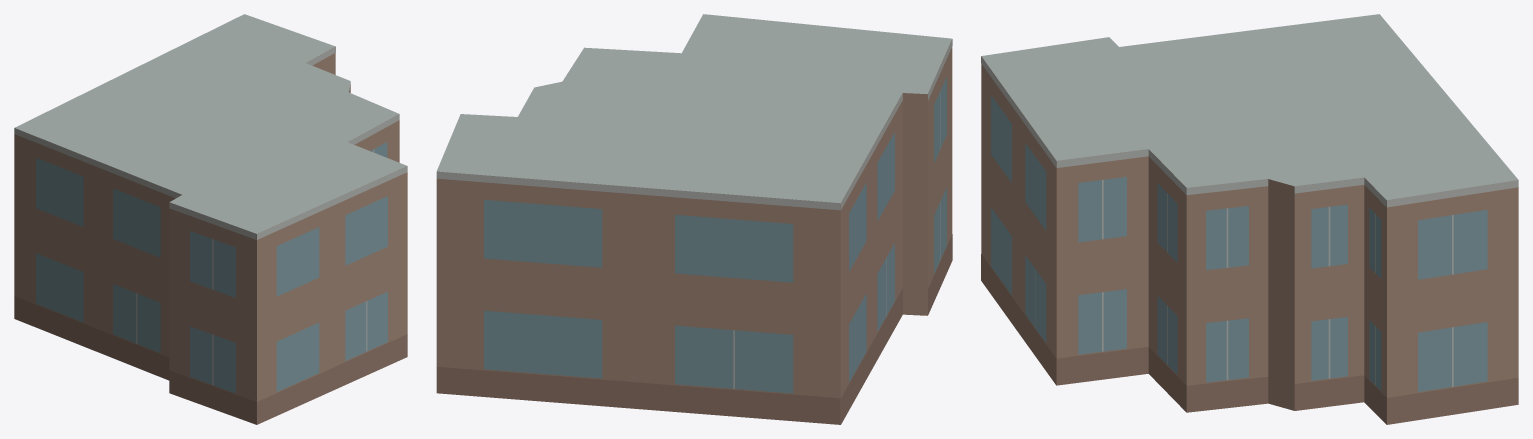
File: survey-upis-32931115.glb
3 views of the same model, side by side, from view 1: azimuth 30°, elevation 25°; view 2: azimuth 150°, elevation 25°; view 3: azimuth 270°, elevation 25° (orthographic). The views are drawn at different scales.
Parts seen in each view (by area): view 1: survey-upis-32931115.tmp; view 2: survey-upis-32931115.tmp; view 3: survey-upis-32931115.tmp.
Boxes of the visible parts, box(x1,y1,x2,y2) form: survey-upis-32931115.tmp: box(14, 14, 407, 424); survey-upis-32931115.tmp: box(436, 14, 952, 424); survey-upis-32931115.tmp: box(981, 14, 1518, 424).
Size of the model in its own units: 13.52 by 7.6 by 16.49.
